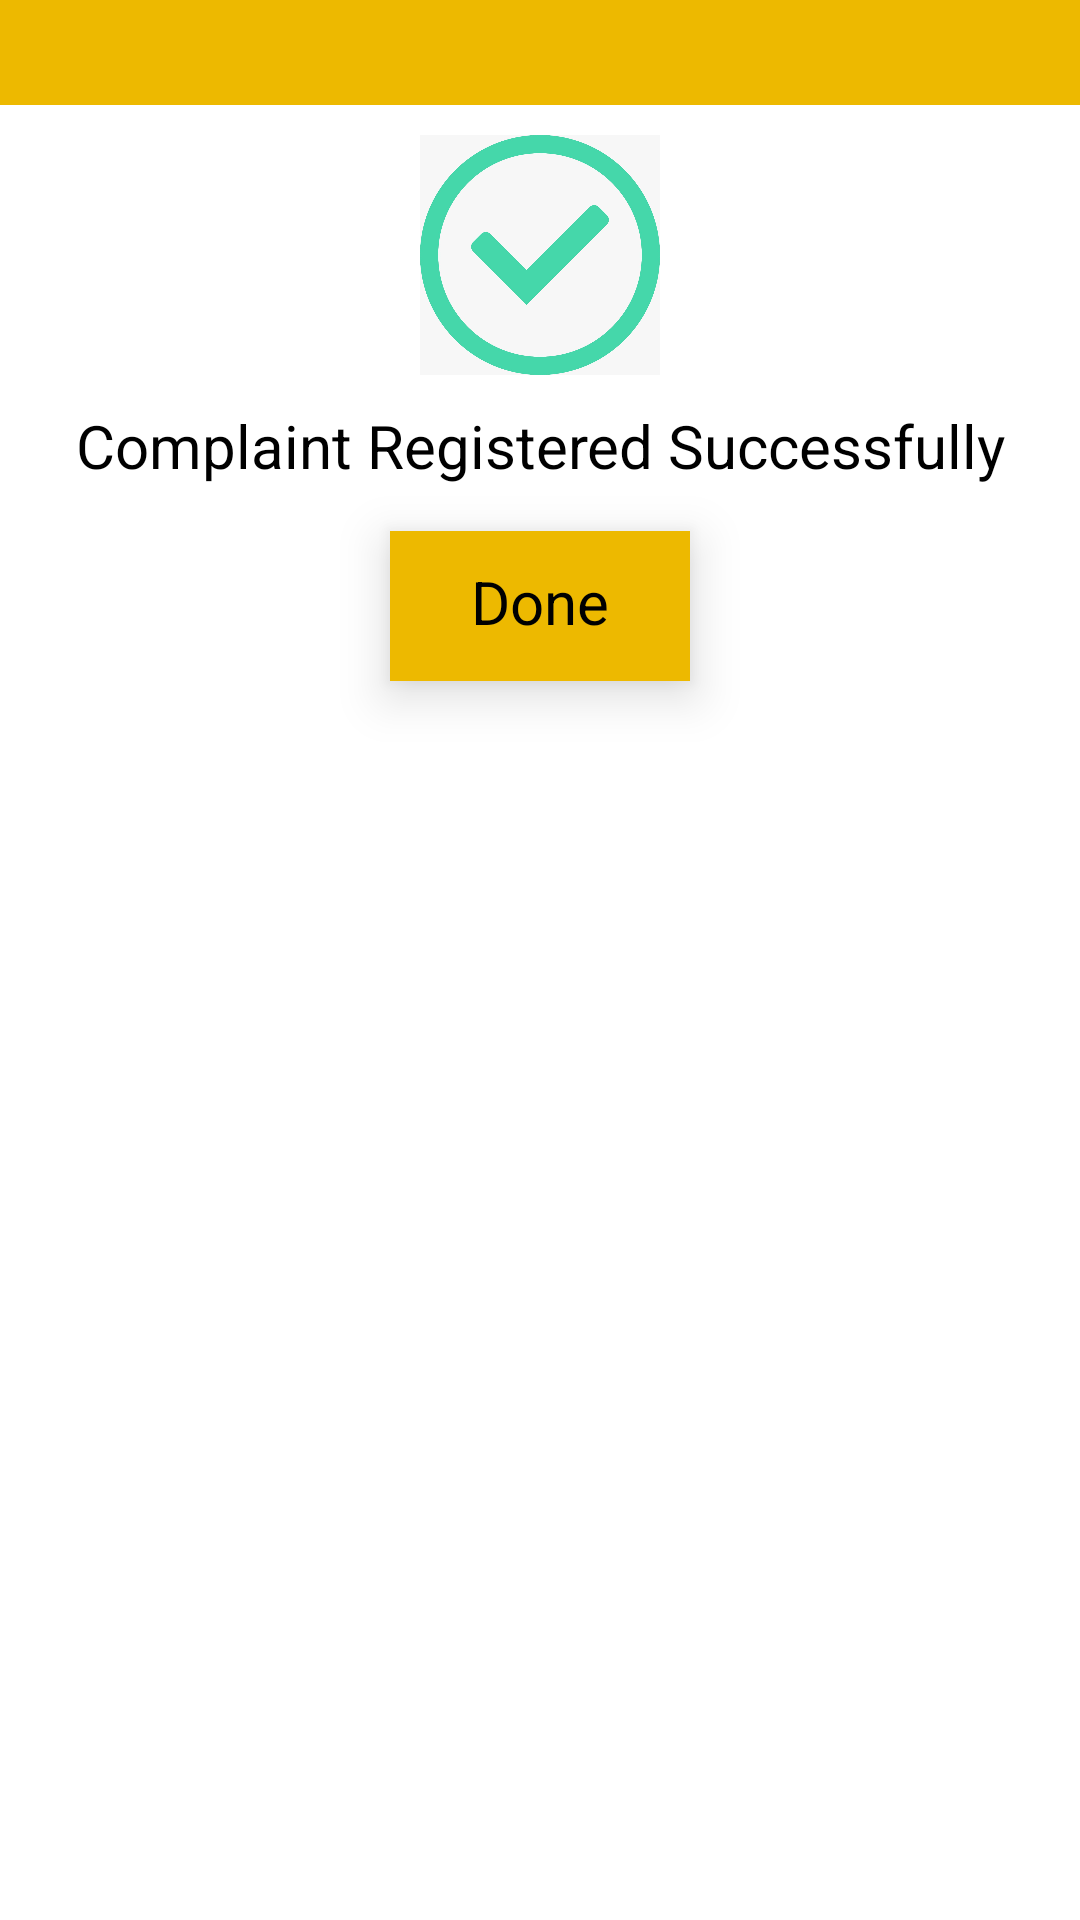

Locate icon controls on the screen. Image size 1080*1920, boxes as (x1, y1, x2, y2).
complete: (420, 135, 660, 375)
